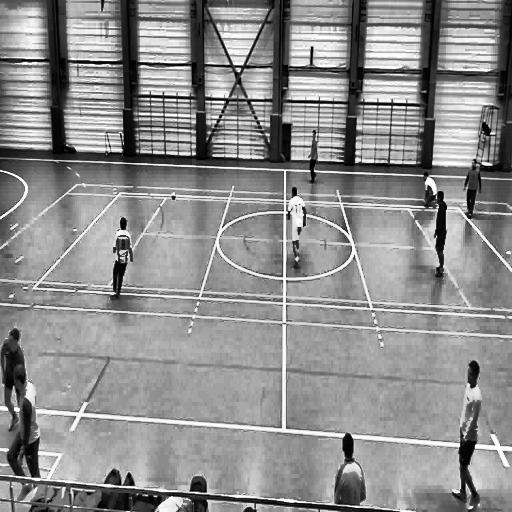ball: (170, 190, 177, 201)
player: (6, 365, 42, 505), (453, 356, 483, 512), (0, 318, 28, 431), (330, 429, 366, 512), (110, 216, 134, 310), (286, 183, 305, 277), (431, 190, 448, 281), (463, 155, 483, 221), (306, 129, 319, 185), (420, 170, 438, 208)
